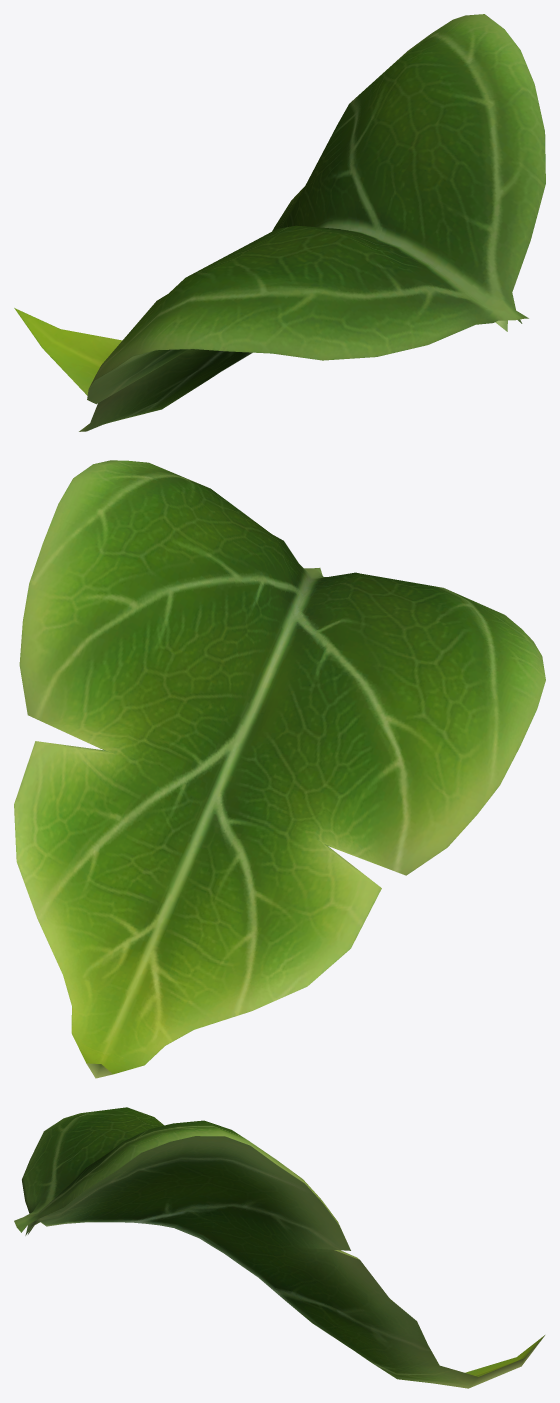
File: peashooter_pelo_der.obj
3 views of the same model, one above another, from view 1: azimuth 30°, elevation 25°; view 2: azimuth 150°, elevation 25°; view 3: azimuth 270°, elevation 25° (orthographic). The views are drawn at different scales.
Parts seen in each view (by area): view 1: peashooter_pelo_der; view 2: peashooter_pelo_der; view 3: peashooter_pelo_der.
Part boxes in pixels (bbox=[...]): peashooter_pelo_der: bbox=[14, 14, 545, 431]; peashooter_pelo_der: bbox=[14, 460, 545, 1078]; peashooter_pelo_der: bbox=[14, 1107, 544, 1388].
Size of the model in its own units: 0.312 by 0.3145 by 0.4695.
